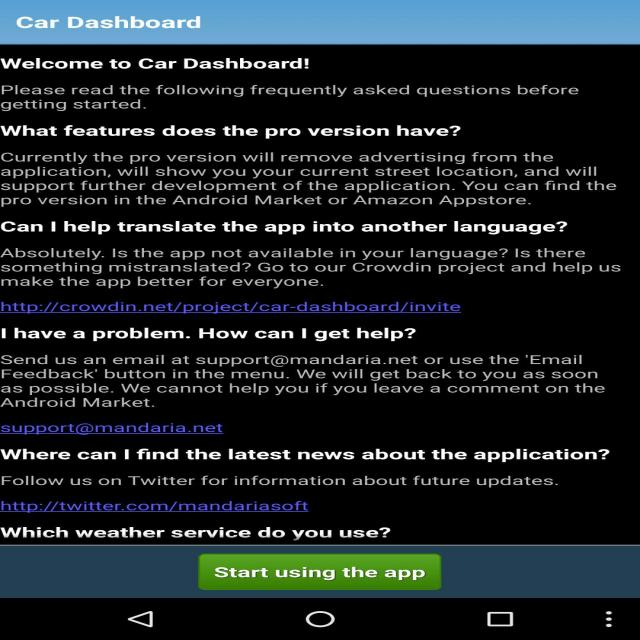button: (198, 554, 444, 591)
text: (0, 147, 618, 210), (0, 352, 626, 408), (0, 242, 631, 294), (1, 78, 590, 115), (0, 111, 511, 146), (1, 442, 626, 468), (1, 294, 500, 324), (1, 213, 596, 238), (2, 472, 613, 494), (1, 521, 405, 545), (0, 323, 425, 343), (2, 499, 377, 521), (1, 51, 340, 74), (0, 413, 280, 436), (9, 12, 214, 36)
